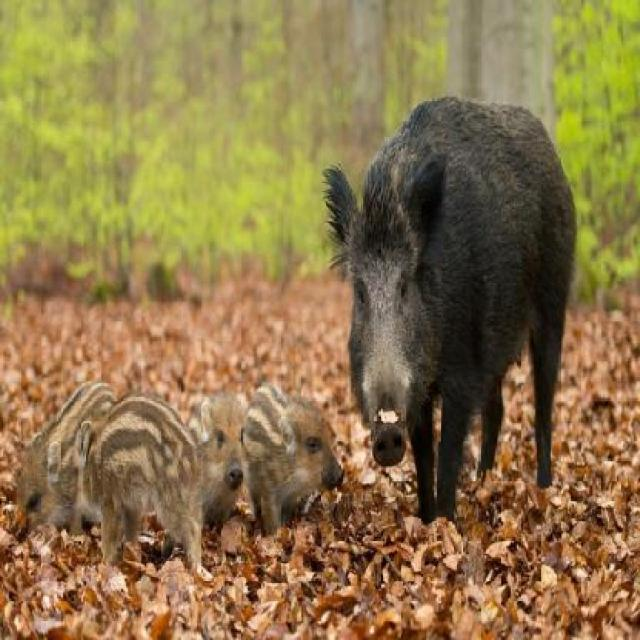wildboar: (322, 94, 581, 534), (76, 385, 209, 580), (12, 378, 131, 545), (239, 381, 344, 537), (182, 383, 252, 535)
